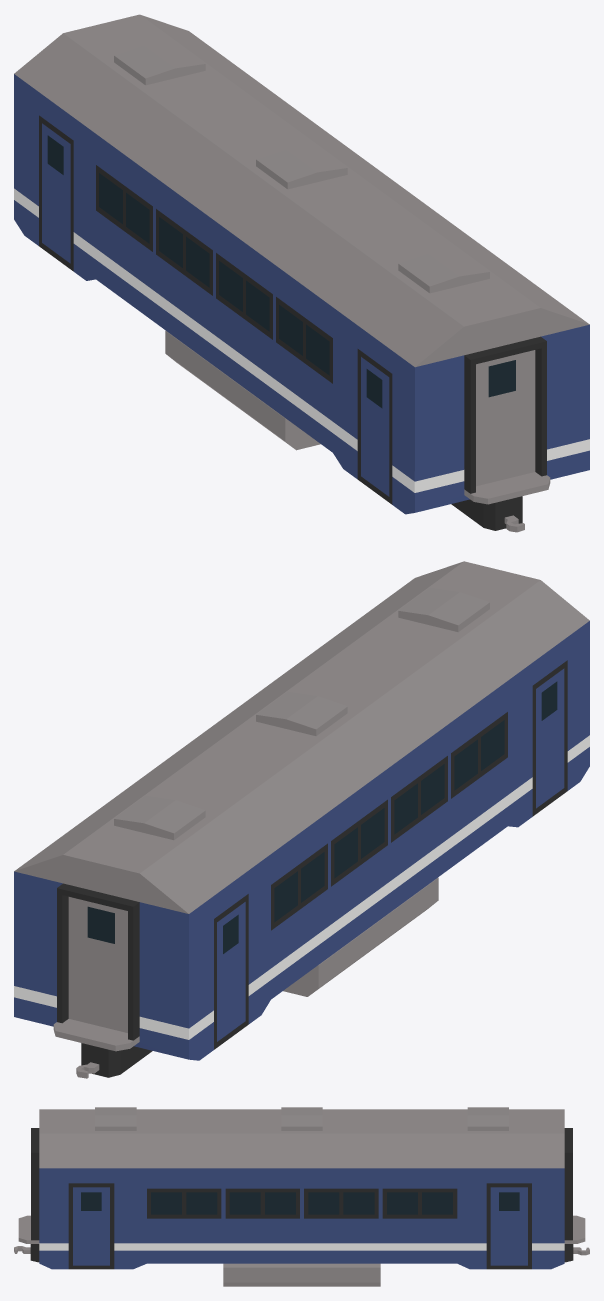
Rendered from train-passenger-wagon-base.glb.
The picture shows the model from 3 angles, top to bottom: view 1: azimuth 30°, elevation 25°; view 2: azimuth 150°, elevation 25°; view 3: azimuth 270°, elevation 25°; orthographic projection. The views are drawn at different scales.
Parts seen in each view (by area): view 1: train-passenger-wagon-base; view 2: train-passenger-wagon-base; view 3: train-passenger-wagon-base.
Boxes of the visible parts, x1,y1,x2,y2 form: train-passenger-wagon-base: (14, 14, 589, 532); train-passenger-wagon-base: (14, 561, 589, 1078); train-passenger-wagon-base: (14, 1107, 589, 1286).
Bounding box in the file's own units: 3.2 × 4.01 × 13.92.
Materials: 1 (1 with a texture image).
